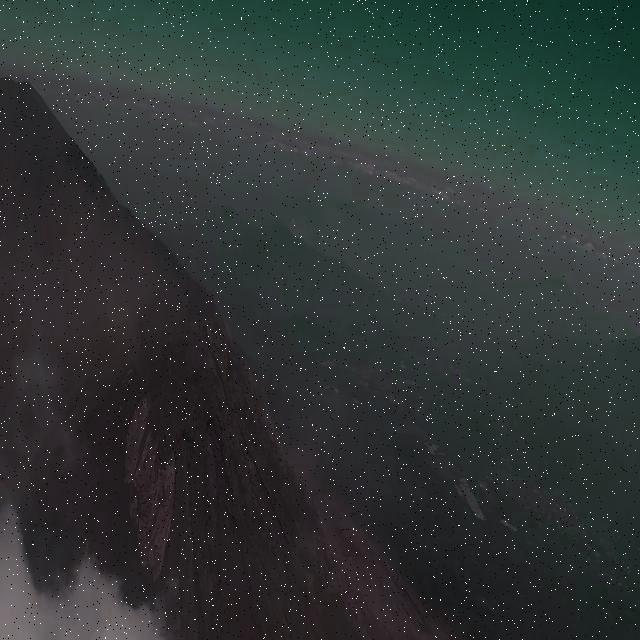Summit: (39, 260, 318, 586)
